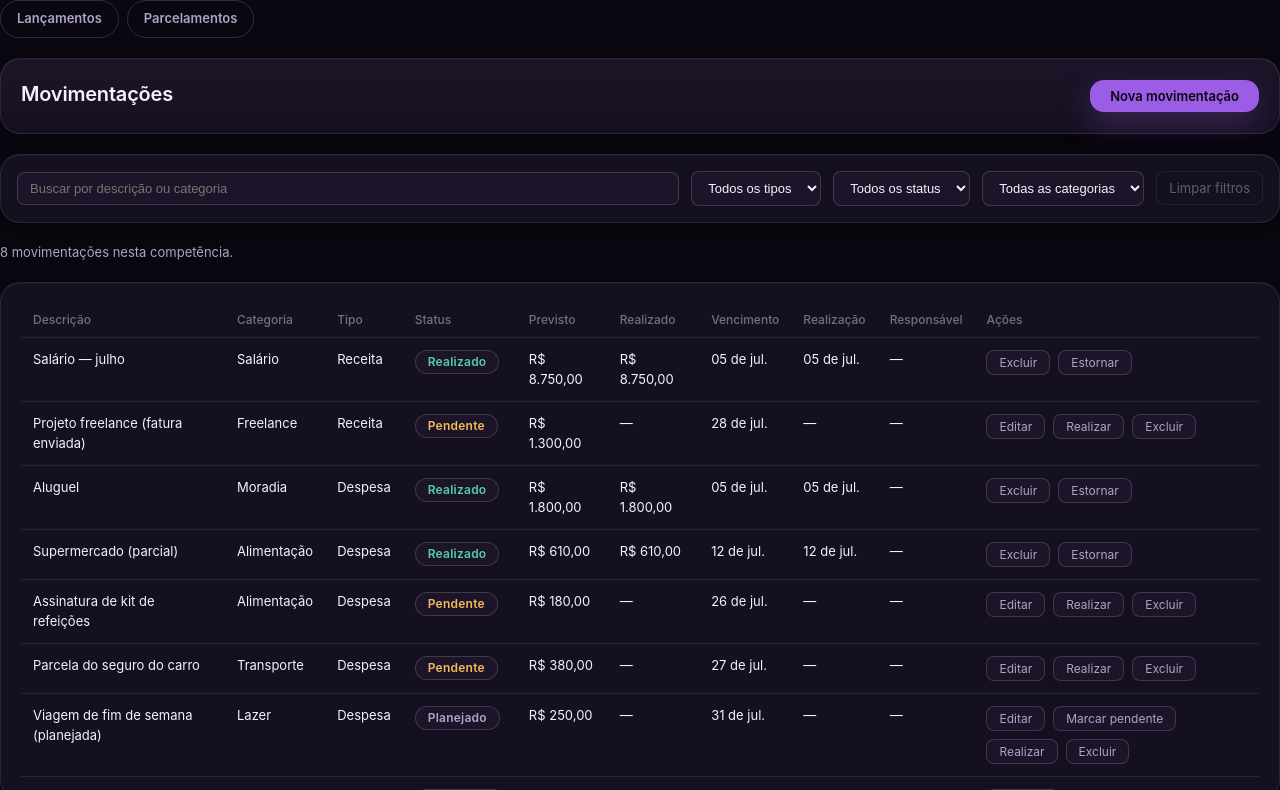
FinancialEntriesPage › rejeita valor inválido no formulário sem despachar a criação
Click the button "Nova movimentação" at (1175, 96), box [1090, 80, 1259, 112]
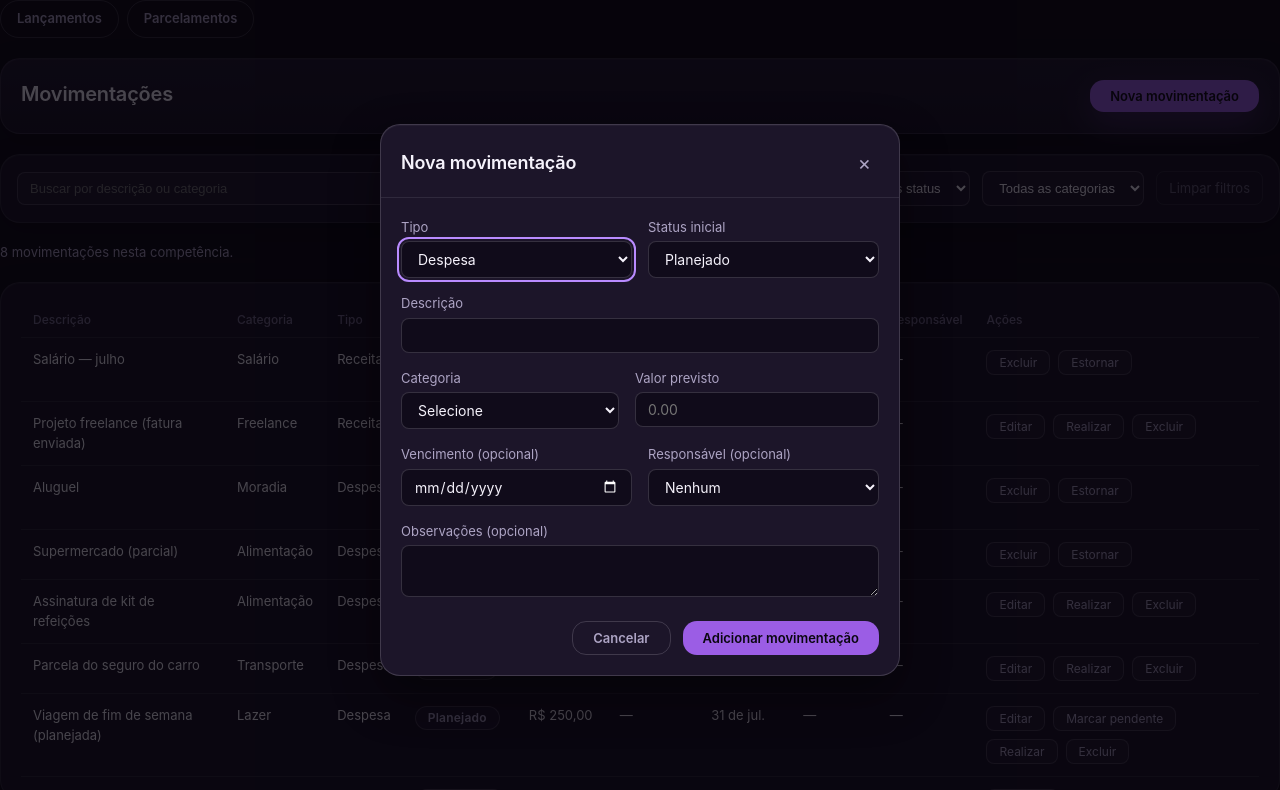
Type "Valor ruim" into the field labelled "Descrição" at (640, 335), box [401, 318, 879, 353]
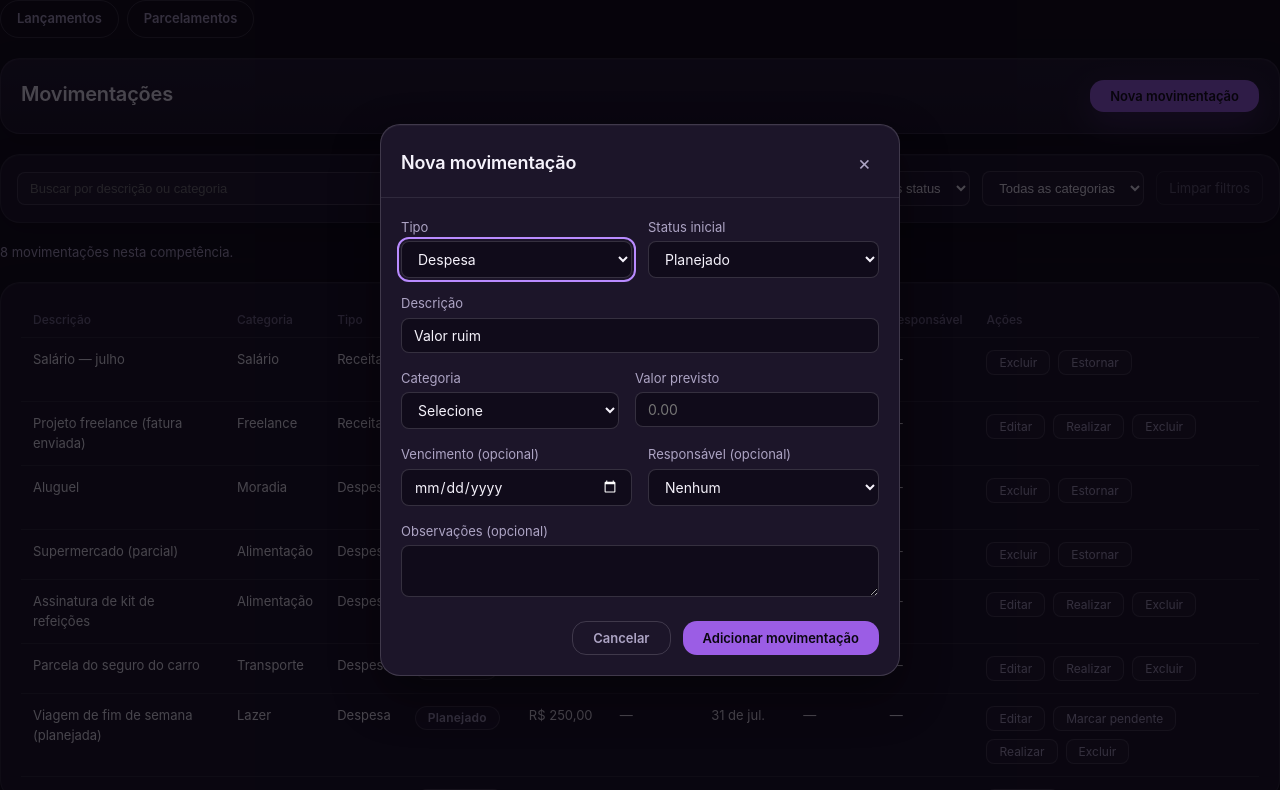
Select "Alimentação" in the dropdown labelled "Categoria" at (510, 411), box [401, 392, 619, 429]
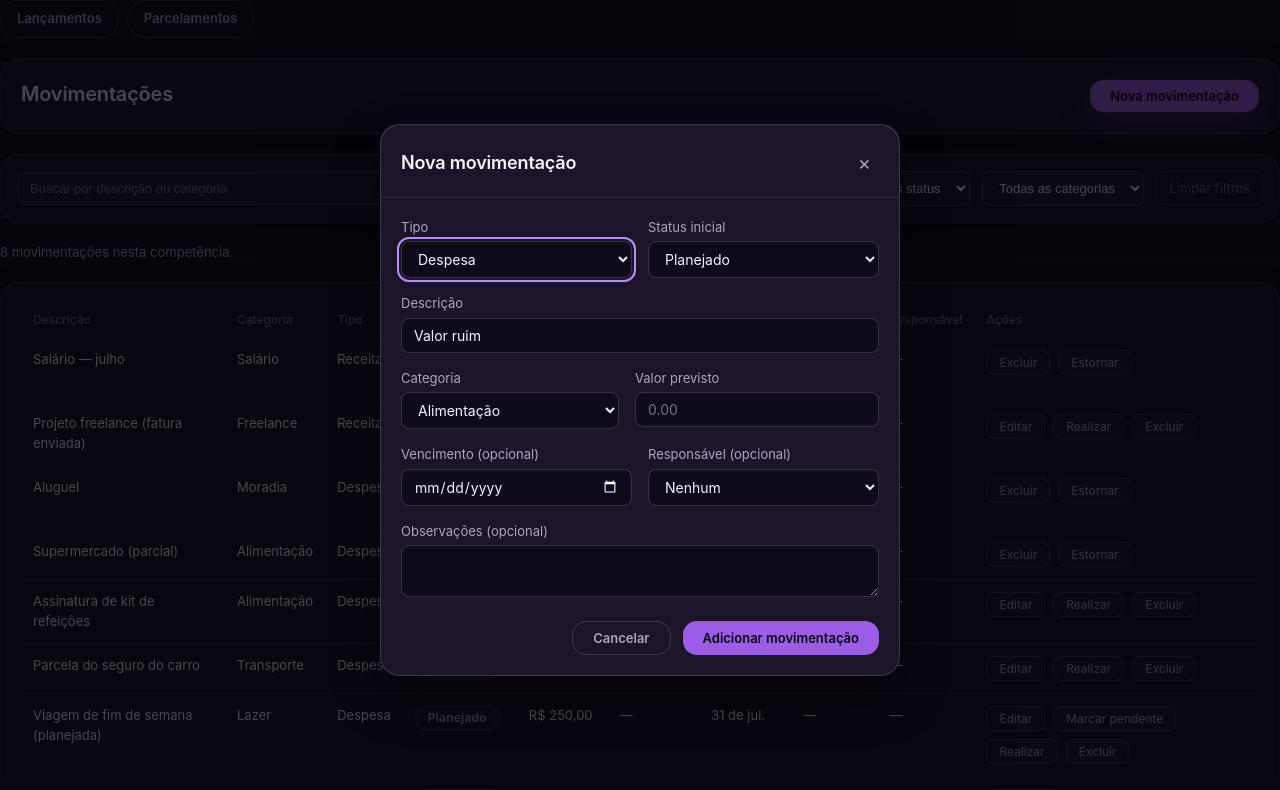
Type "abc" into the field labelled "Valor previsto" at (757, 410), box [635, 392, 879, 427]
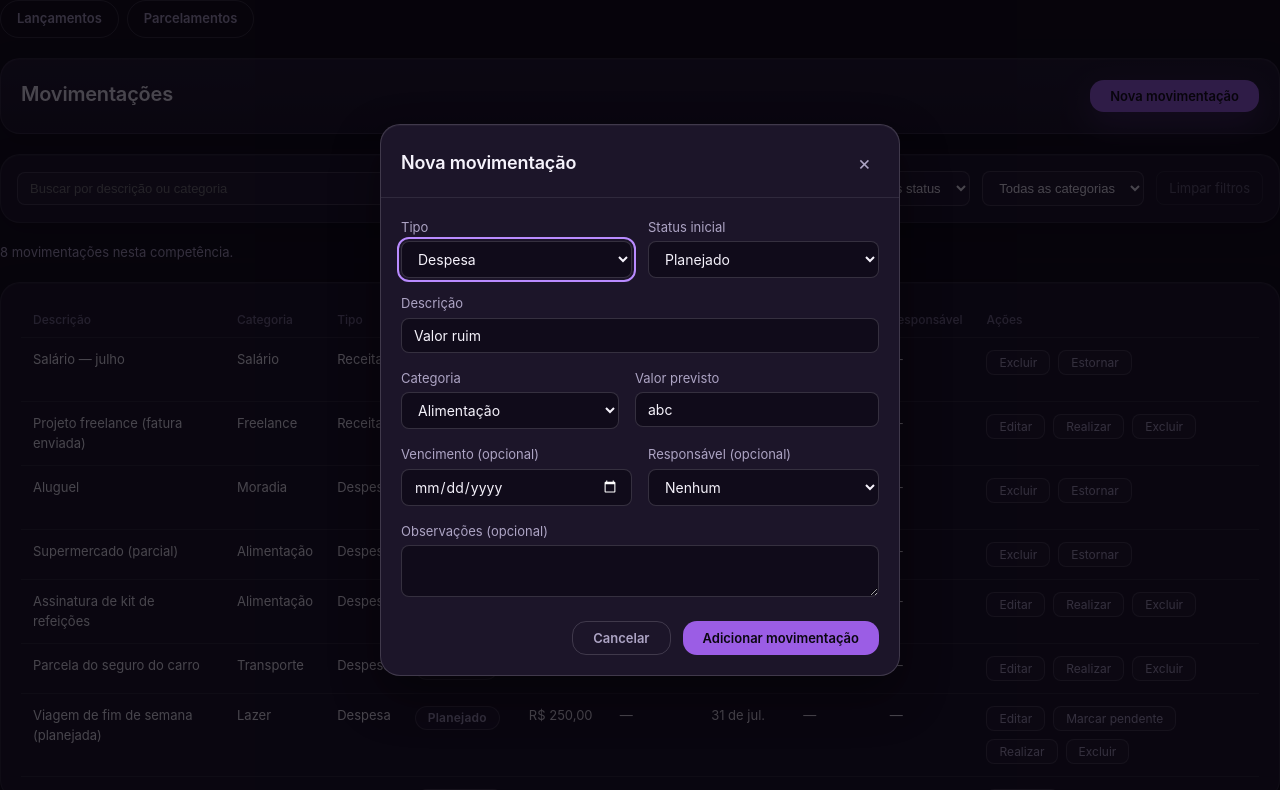
Click the button "Adicionar movimentação" at (781, 638), box [682, 621, 879, 655]
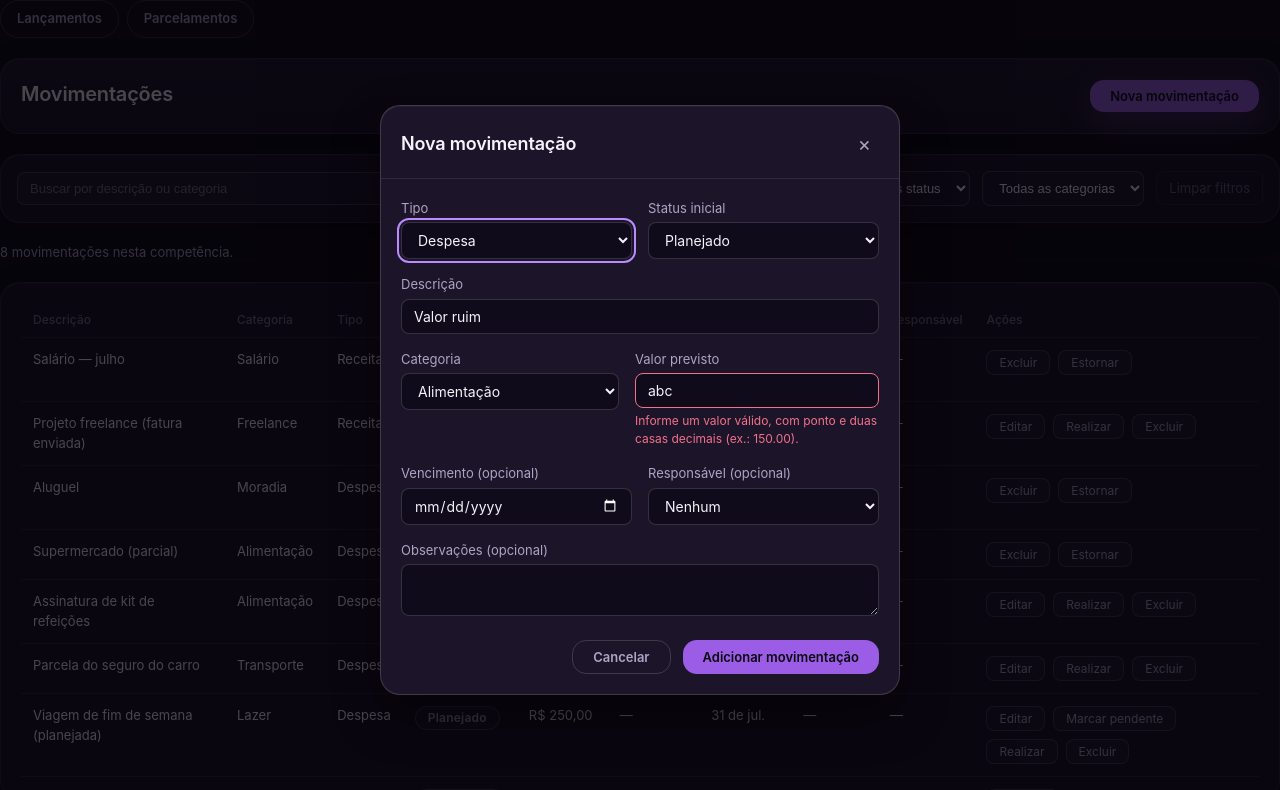
Now the text "Informe um valor válido, com ponto e duas casas decimais (ex.: 150.00)." is shown, box [635, 412, 879, 448]
